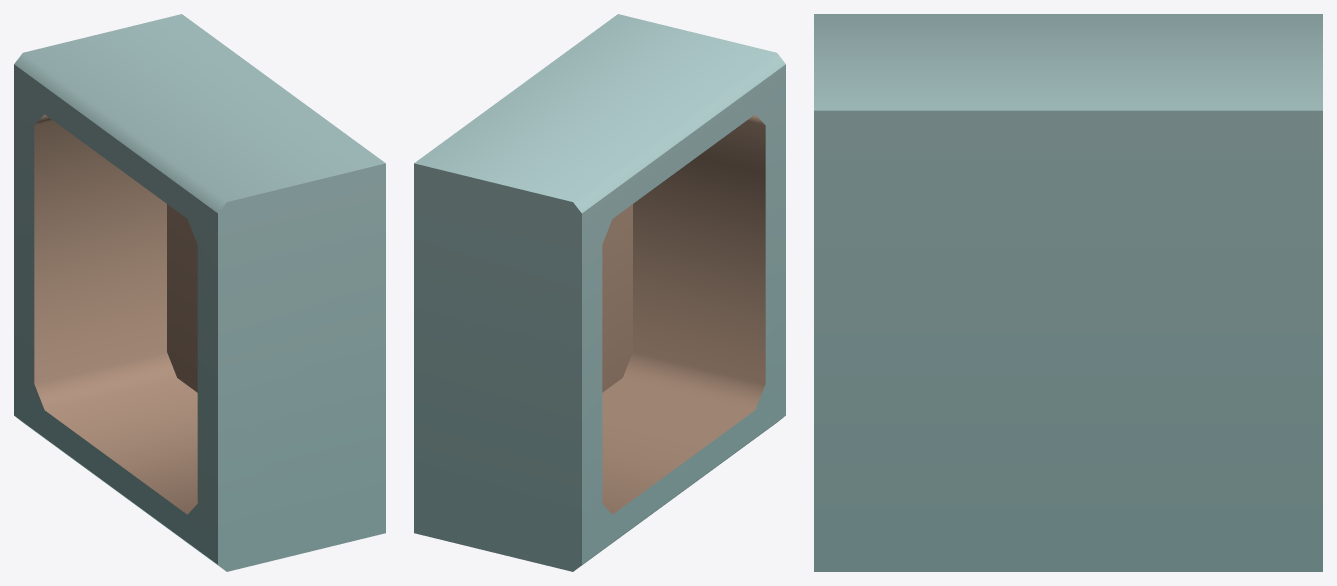
The model's file is cabinet-decorative-upper (%wall).glb.
The picture shows the model from 3 angles, left to right: view 1: azimuth 30°, elevation 25°; view 2: azimuth 150°, elevation 25°; view 3: azimuth 270°, elevation 25°; orthographic projection. The views are drawn at different scales.
Visible parts, largest first — view 1: cabinet-decorative-upper (%wall); view 2: cabinet-decorative-upper (%wall); view 3: cabinet-decorative-upper (%wall).
Part boxes in pixels (x1=…): cabinet-decorative-upper (%wall): x1=14, y1=14, x2=385, y2=571; cabinet-decorative-upper (%wall): x1=414, y1=14, x2=785, y2=571; cabinet-decorative-upper (%wall): x1=814, y1=14, x2=1322, y2=571.
Bounding box in the file's own units: 0.2375 × 0.5 × 0.5.
